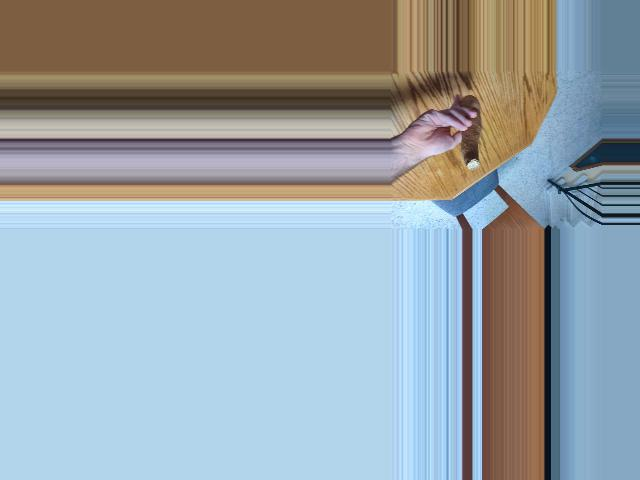sweet_potato: (456, 100, 487, 164)
